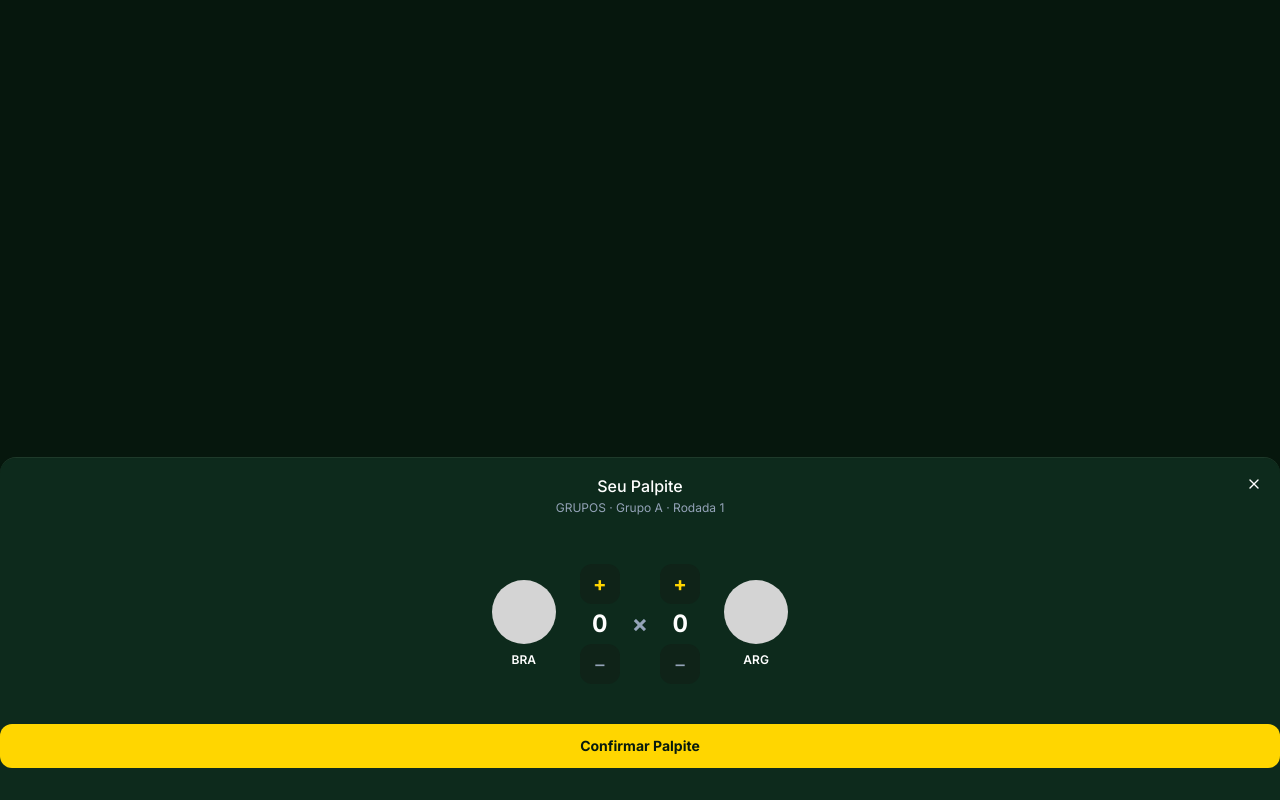
botão + incrementa placar da casa
Step 1. Click the 1st button "+" → [600, 584], box [580, 564, 620, 604]
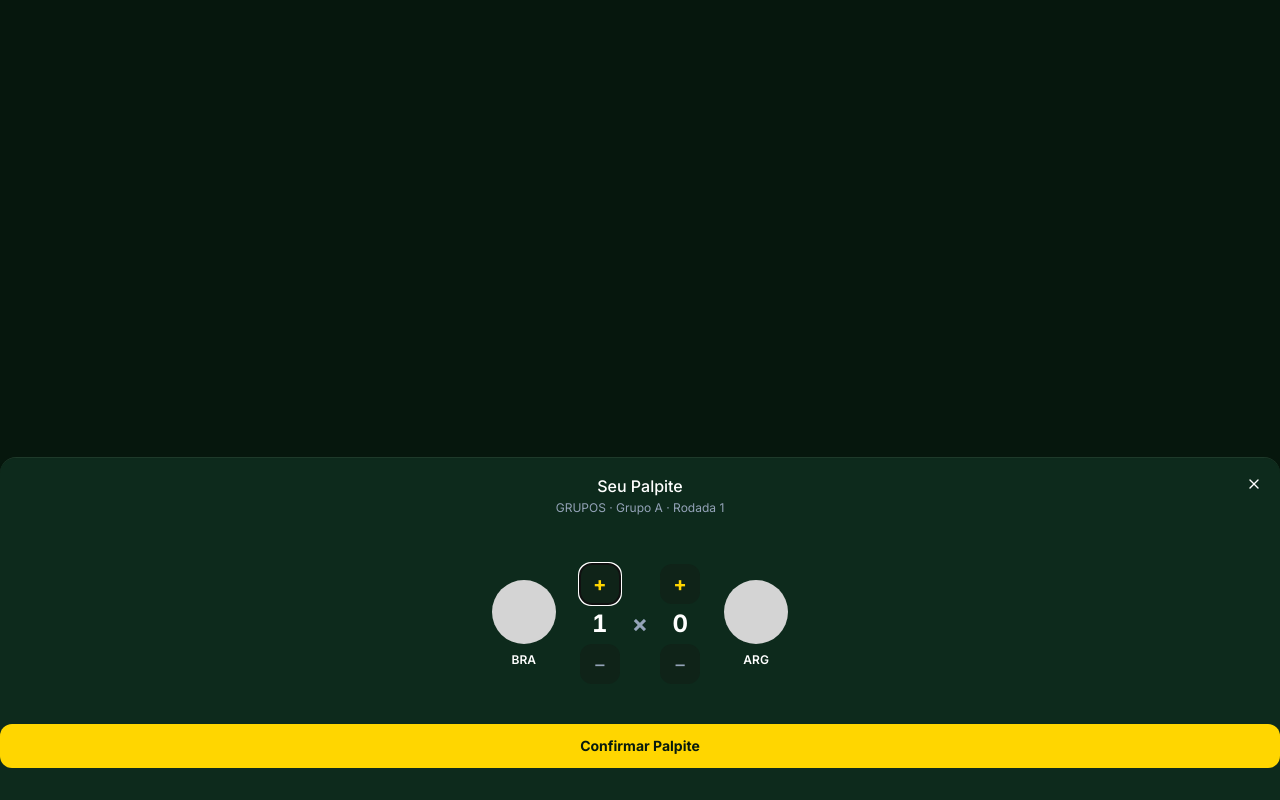
Expected: the text with test id "placar-casa" reads "1", [592, 609, 608, 638]
